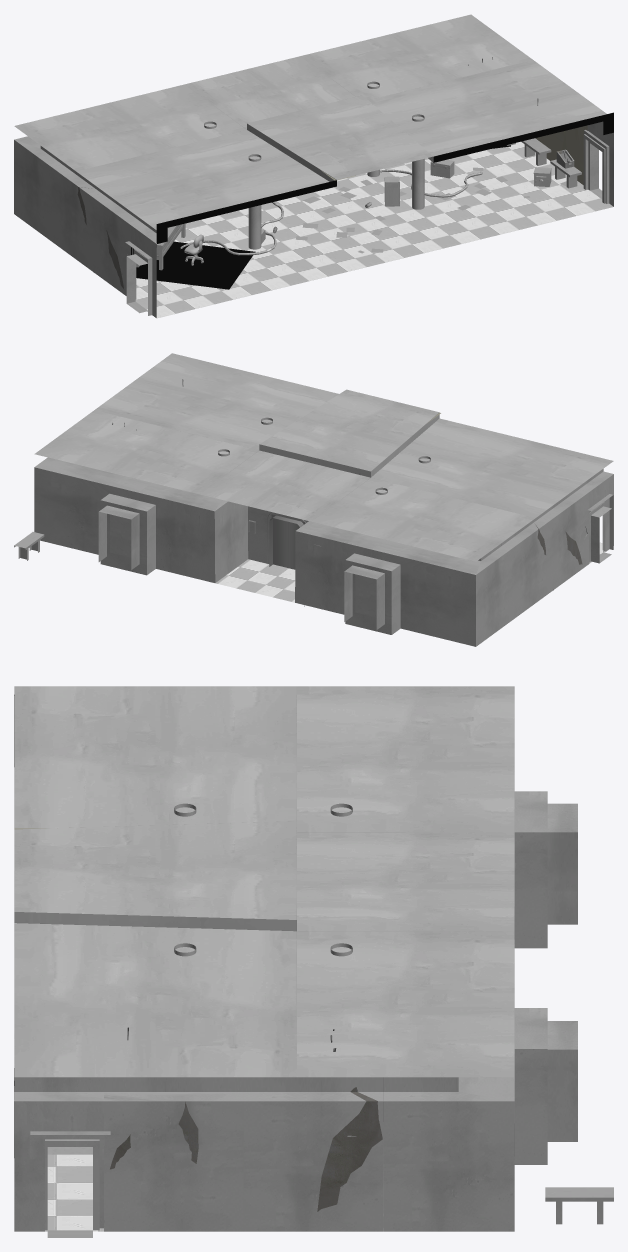
Rendered from MSH_QuestObservatory_L1_R3_optimized.fbx.
3 renders of one model, top to bottom at view 1: azimuth 30°, elevation 25°; view 2: azimuth 150°, elevation 25°; view 3: azimuth 270°, elevation 25°, orthographic. The views are drawn at different scales.
Parts seen in each view (by area): view 1: lightmap9, lightmap6, lightmap4, lightmap1, MSH_QuestObservatory_L1_R3_Decals_01; view 2: lightmap9, lightmap4, lightmap1, lightmap6; view 3: lightmap9, lightmap4, lightmap1, lightmap6.
Part boxes in pixels (x1,y1,x2,y2): lightmap9: (14,14,606,229); lightmap6: (135,141,613,318); lightmap4: (14,81,613,317); lightmap1: (125,57,613,315); MSH_QuestObservatory_L1_R3_Decals_01: (94,125,587,289); lightmap9: (34,353,613,561); lightmap4: (34,417,613,646); lightmap1: (14,379,613,629); lightmap6: (215,542,605,602); lightmap9: (14,686,514,1077); lightmap4: (14,696,547,1231); lightmap1: (14,695,613,1237); lightmap6: (45,1154,103,1231).
Size of the model in its own units: 30.91 by 6.27 by 19.39.
Materials: 7 (6 with a texture image).
